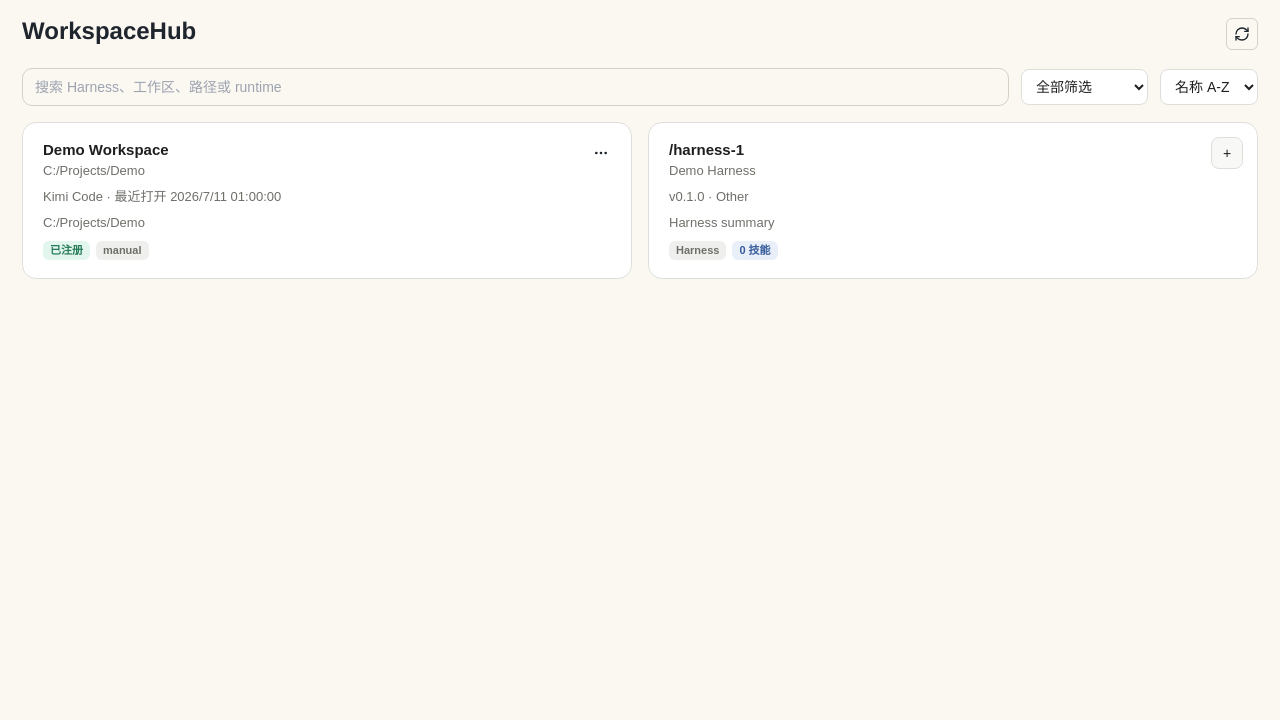
Scenario: WorkspaceHubPanel detail › keeps harness creation controls unchanged
Step 1. Click the button "Demo Harness" → (707, 150), box 649,123 -> 1257,278
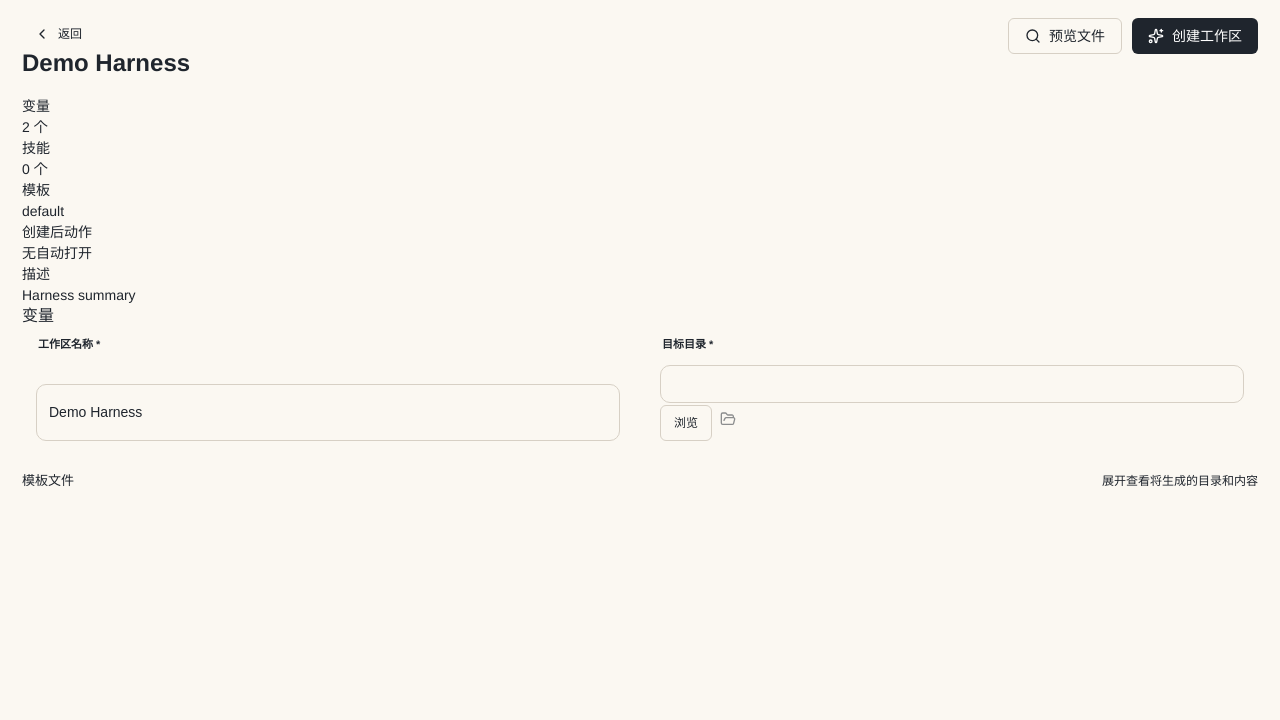
Check: the heading "Demo Harness" is shown, box 22,50 -> 190,78
Check: the button "创建工作区" is shown, box 1132,18 -> 1258,54
Check: the text "变量" is shown, box 22,98 -> 50,114
